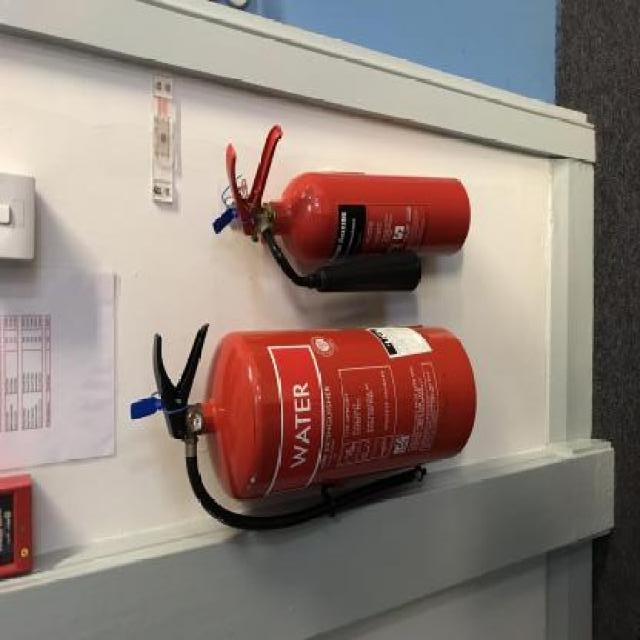fire extinguisher: (133, 325, 475, 530), (213, 125, 472, 293)
